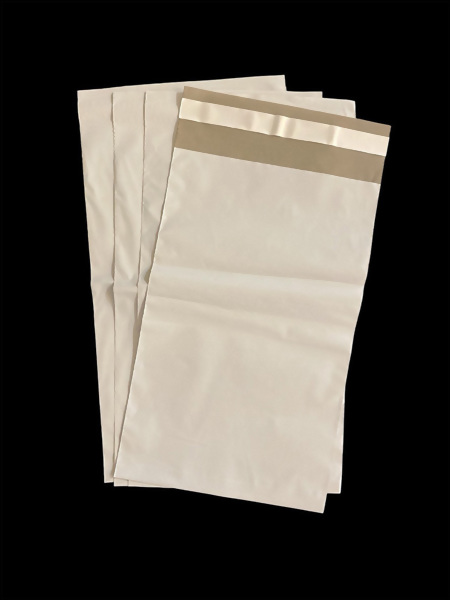Parcel: (78, 76, 388, 511)
